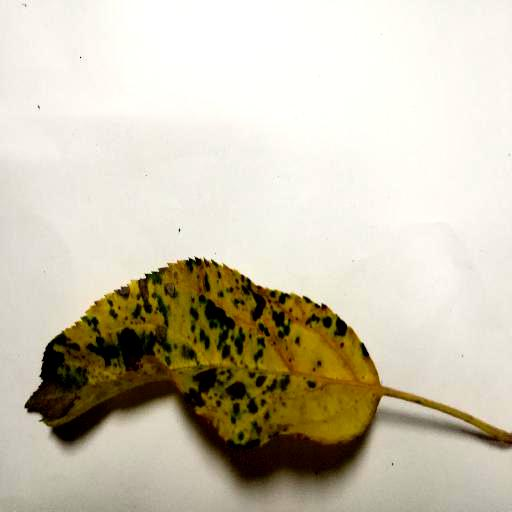Brown_Spot: (28, 233, 400, 458)
